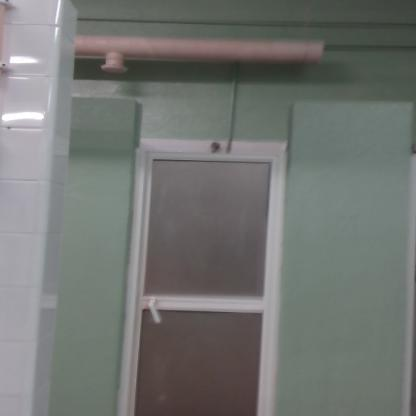door: (137, 144, 272, 416)
lever: (147, 294, 167, 326)
